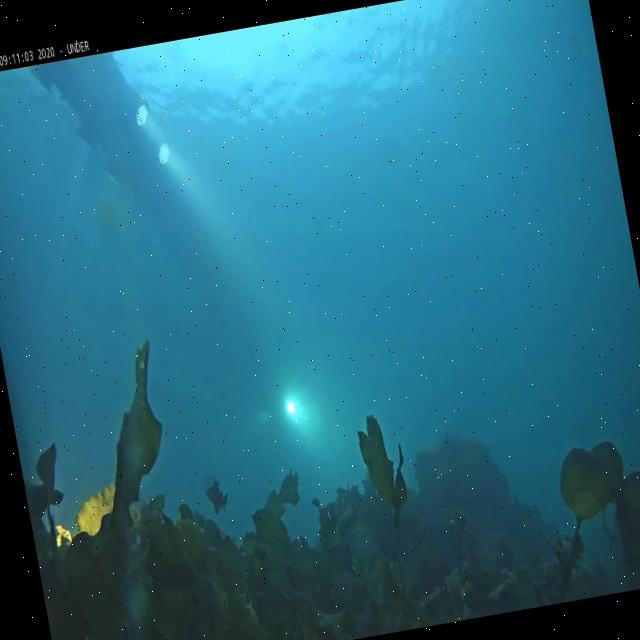fish: (205, 480, 230, 514)
